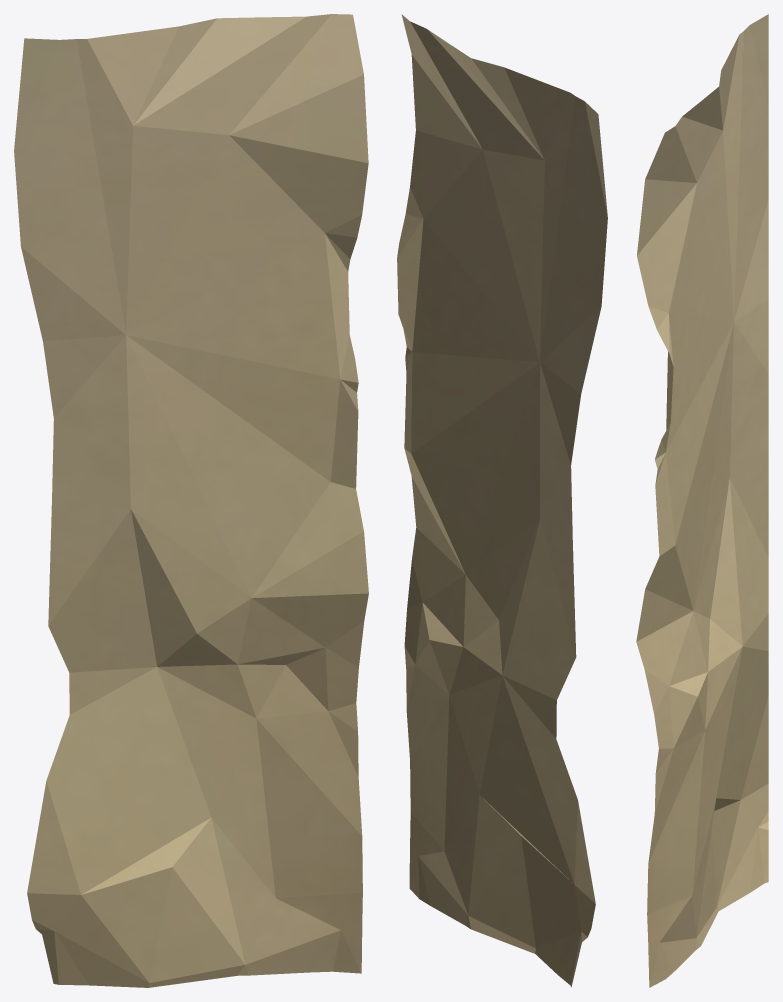
The picture shows the model from 3 angles, left to right: view 1: azimuth 30°, elevation 25°; view 2: azimuth 150°, elevation 25°; view 3: azimuth 270°, elevation 25°; orthographic projection. The views are drawn at different scales.
Bounding box in the file's own units: 0.2587 × 0.8374 × 0.1175.
1 material, 1 textured.
